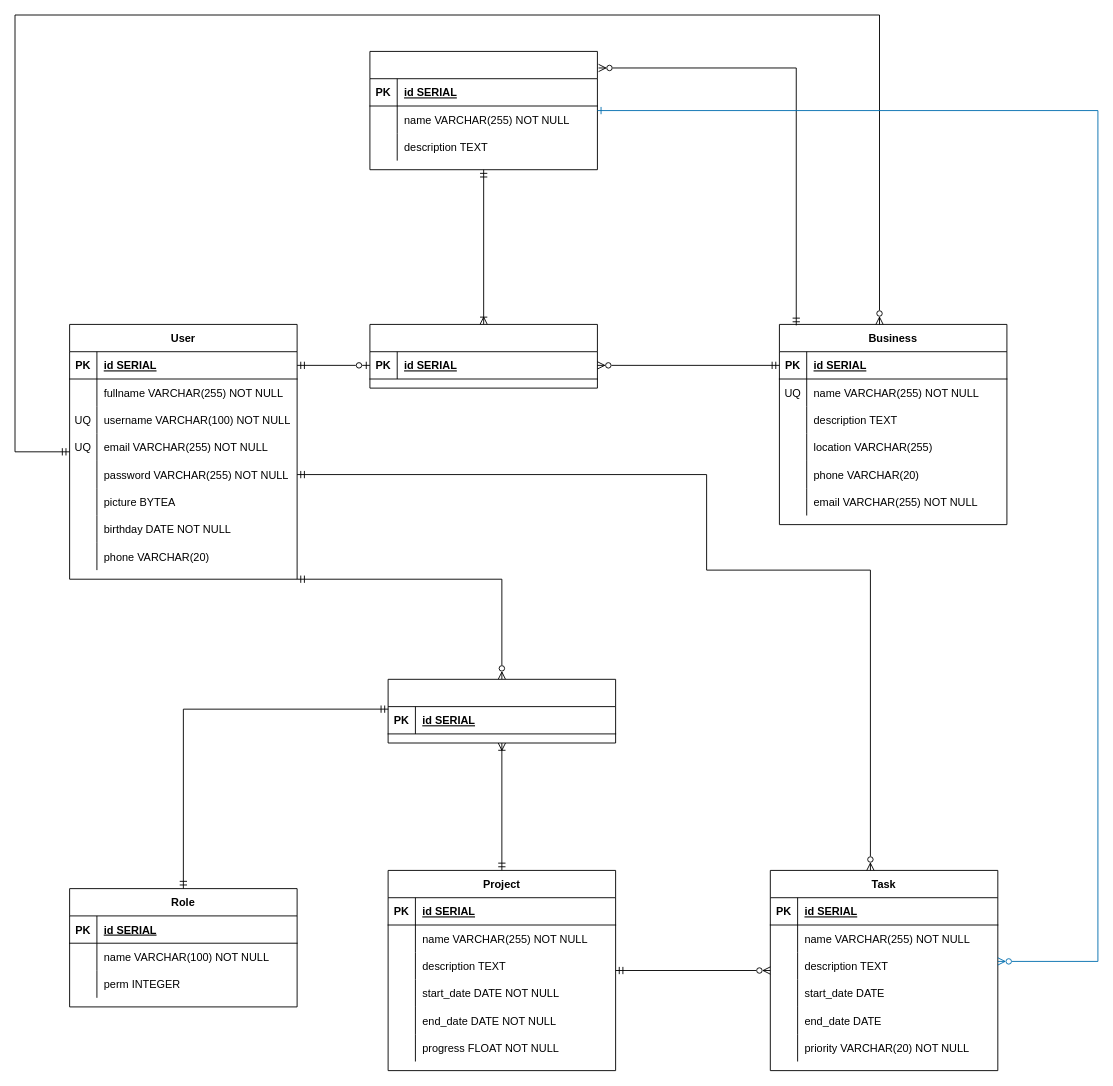
Image size: 1113x1086. Some labels were removed from this diagram. The box of each missing label's shape, as (x1, y1, x2, y2) in pixels:
Employee: (369, 324, 597, 388)
Team: (369, 51, 597, 170)
UserProjectsRole: (387, 678, 616, 743)
